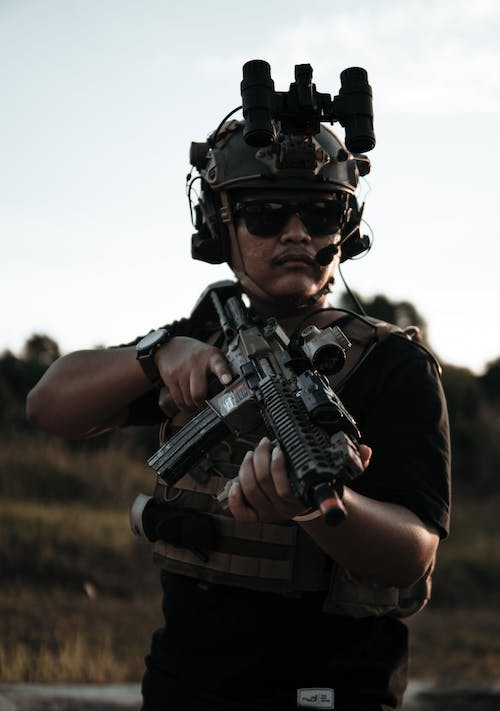gun: (144, 278, 369, 535)
